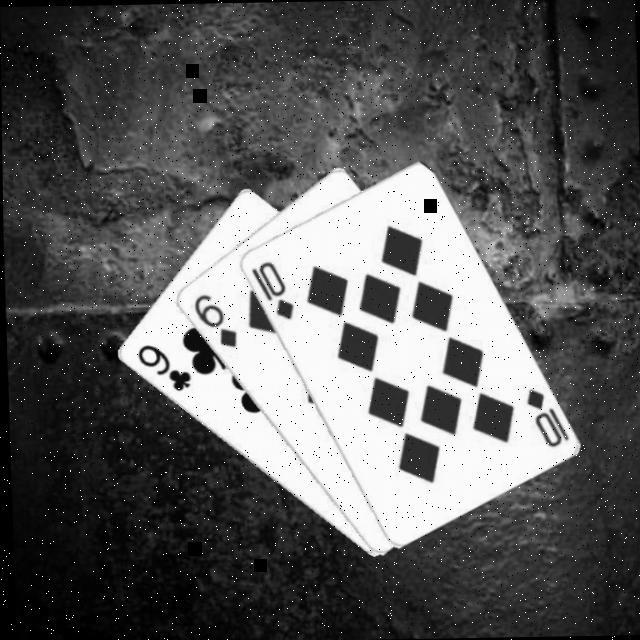10D: (244, 254, 294, 320), (518, 382, 568, 448)
6D: (186, 287, 236, 349)
9C: (130, 338, 190, 393)
